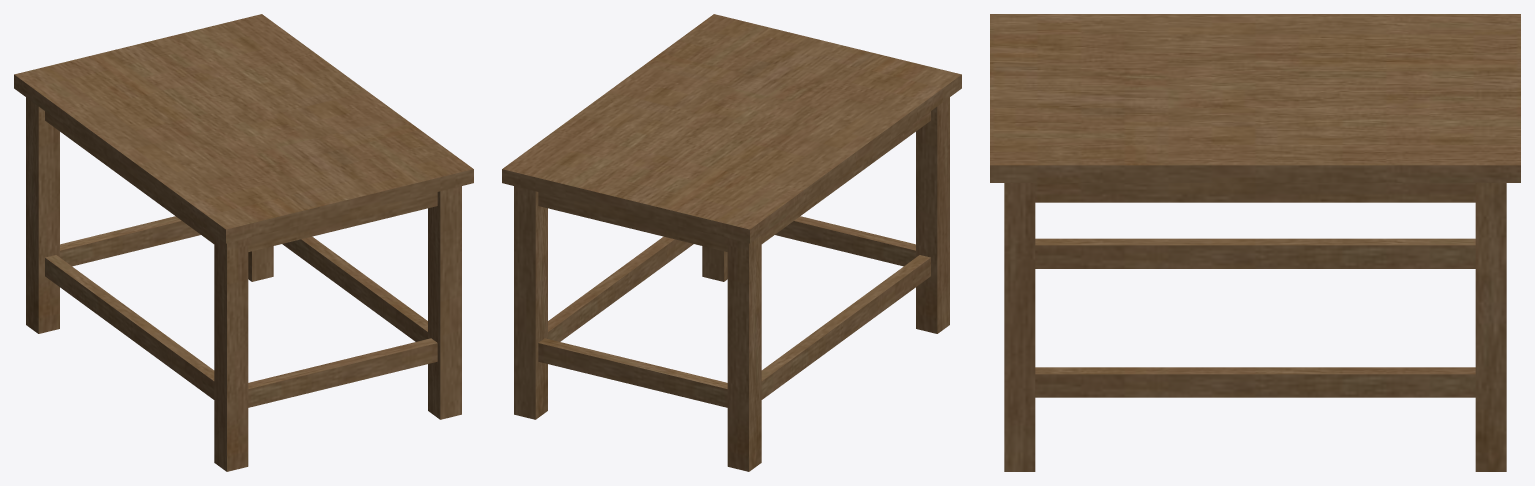
The model's file is table_01.glb.
3 views of the same model, side by side, from view 1: azimuth 30°, elevation 25°; view 2: azimuth 150°, elevation 25°; view 3: azimuth 270°, elevation 25° (orthographic). The views are drawn at different scales.
Parts seen in each view (by area): view 1: Desk_02; view 2: Desk_02; view 3: Desk_02.
Part boxes in pixels (x1,y1,x2,y2): Desk_02: [14, 14, 473, 471]; Desk_02: [502, 14, 961, 471]; Desk_02: [990, 14, 1520, 471].
Size of the model in its own units: 0.9493 by 0.9076 by 1.41.
Materials: 1 (1 with a texture image).
